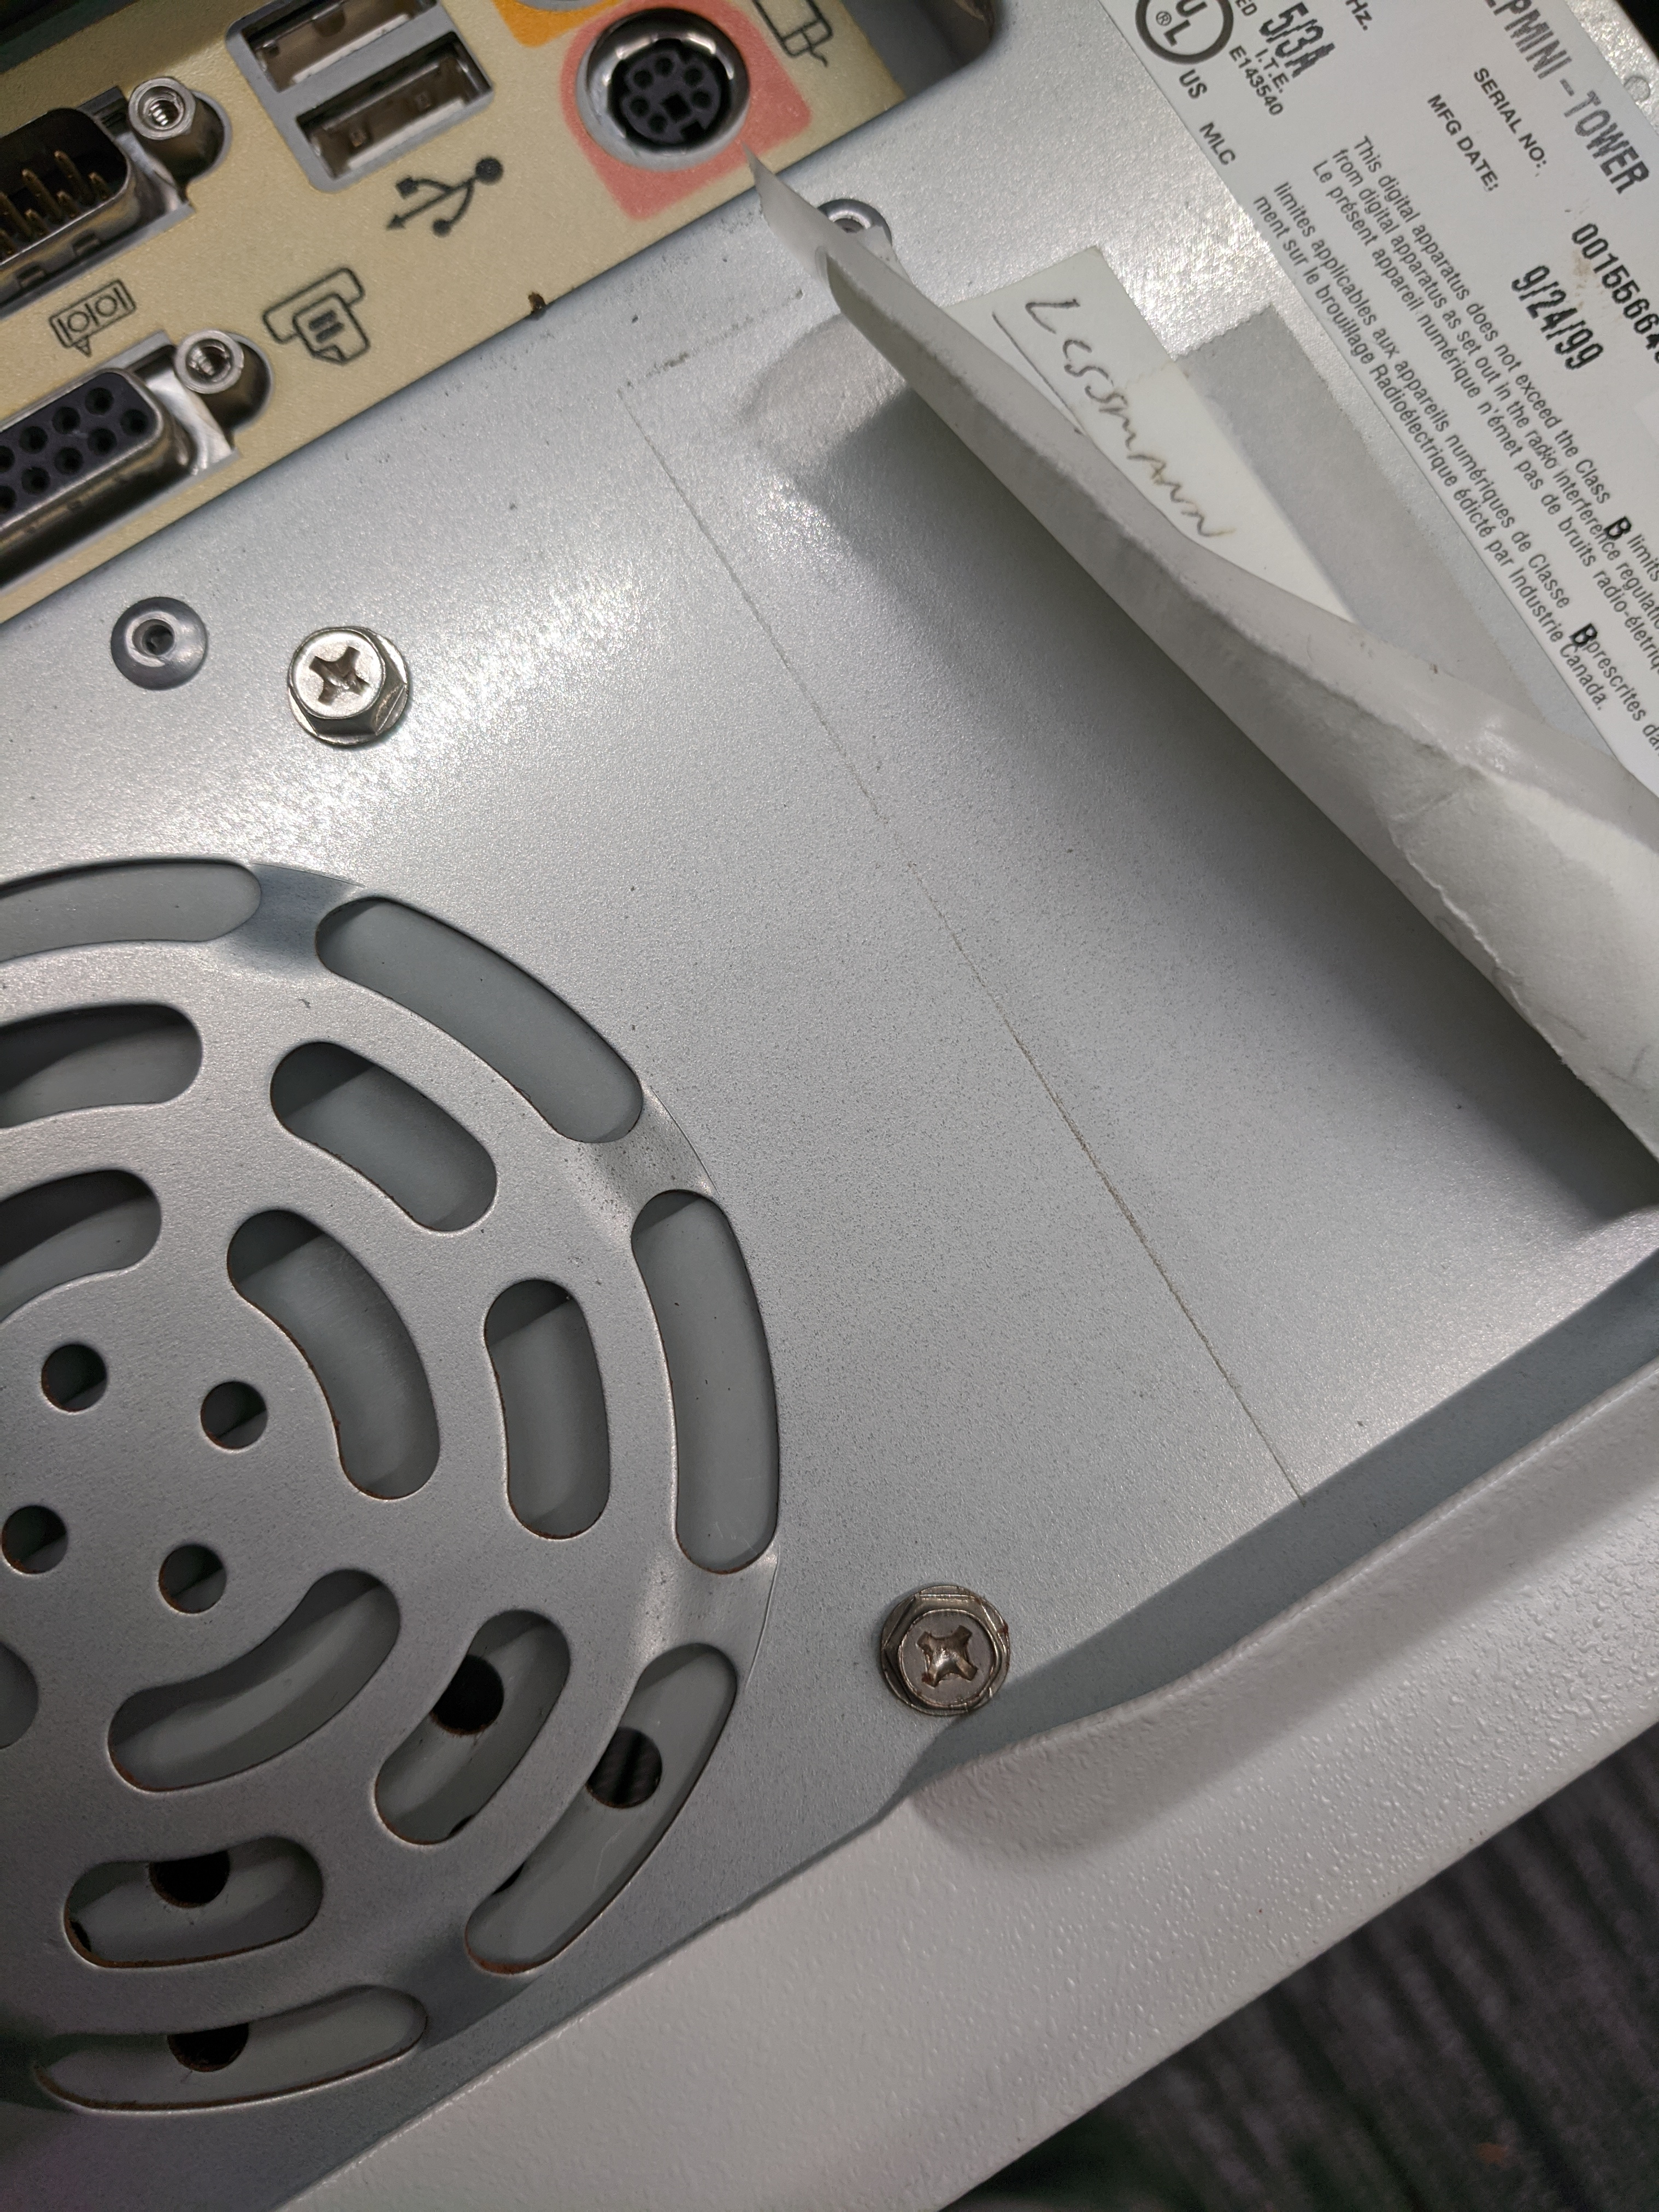cross_recessed_screw: (871, 1581, 1019, 1721), (279, 613, 397, 737)
